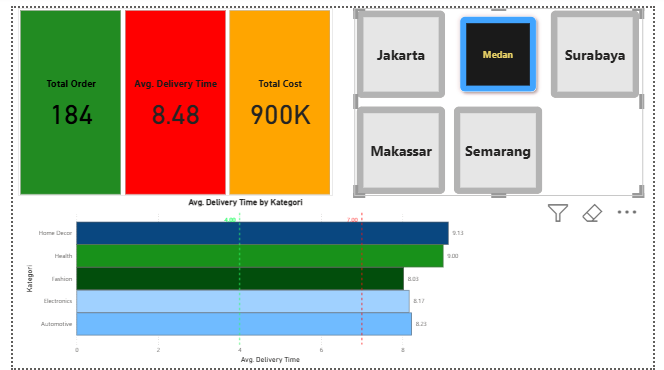

The dashboard page shown, as its layout file describes it:
{"tool":"powerbi","page":{"name":"Page 1","canvas":[1280,720],"ordinal":0},"visuals":[{"type":"cardVisual","fields":{"Data":["Count(supply_chain_cleaned_final.Order_ID)","Avg(supply_chain_cleaned_final.Lead_Time_Days)","Sum(supply_chain_cleaned_final.Shipping_Cost)"]},"box":[10,0,630,378],"z":0},{"type":"clusteredBarChart","title":"Avg. Delivery Time by Kategori","fields":{"Category":["supply_chain_cleaned_final.Product_Category"],"Y":["Avg(supply_chain_cleaned_final.Lead_Time_Days)"]},"box":[10,376.7,910,343.3],"z":1000},{"type":"advancedSlicerVisual","fields":{"Values":["supply_chain_cleaned_final.Warehouse_Location"]},"box":[682.5,0,577.5,377.5],"z":2000}]}

Visuals, with their boxes in screenshot pixels (x1, y1, x2, y2), scaled from the page's 1280x720 canvas onto the 664x370 screenshot:
cardVisual - Count(supply_chain_cleaned_final.Order_ID) x Avg(supply_chain_cleaned_final.Lead_Time_Days): Rect(5, 0, 332, 194)
"Avg. Delivery Time by Kategori" clusteredBarChart: Rect(5, 194, 477, 369)
advancedSlicerVisual - supply_chain_cleaned_final.Warehouse_Location: Rect(354, 0, 654, 194)
